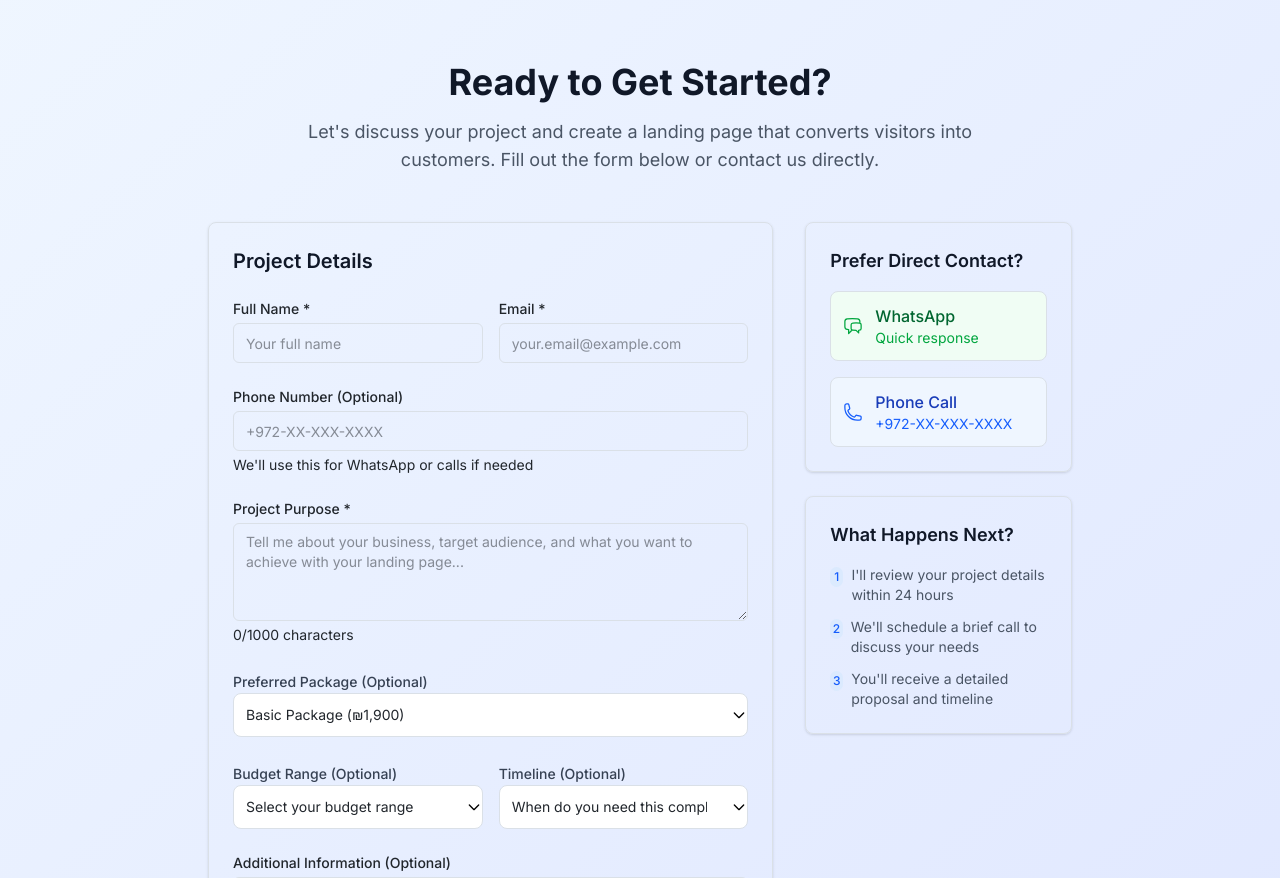
Test: Contact Component › validates project purpose minimum length
Type "short" into the text box labelled "Project Purpose *".
click(491, 572); type("short")  # box [233,523,748,621]
(page scrolled)
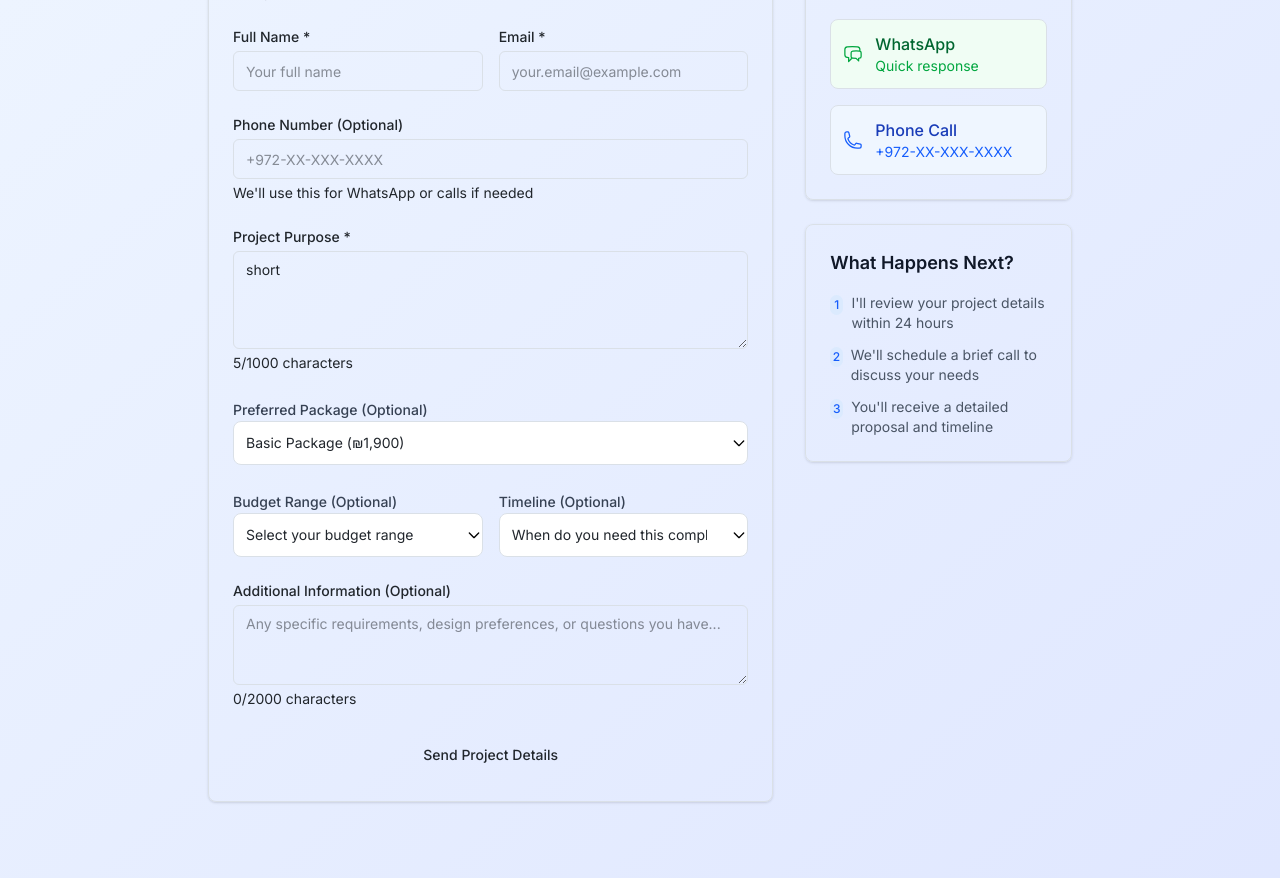
Click the button "Send Project Details".
click(491, 755)  # box [233,733,748,777]
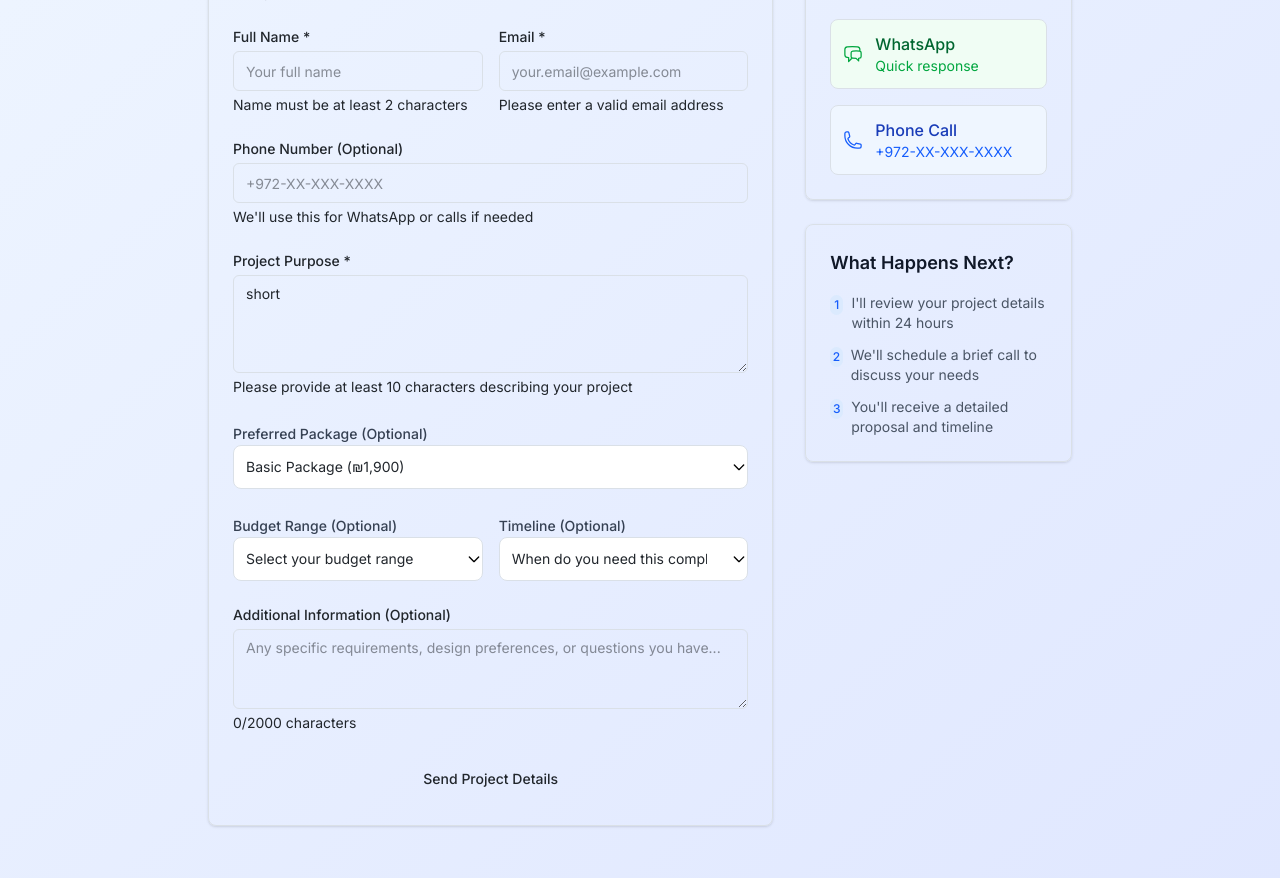
Now the text "Please provide at least 10 characters describing your project" is shown, box [233,378,633,395]
